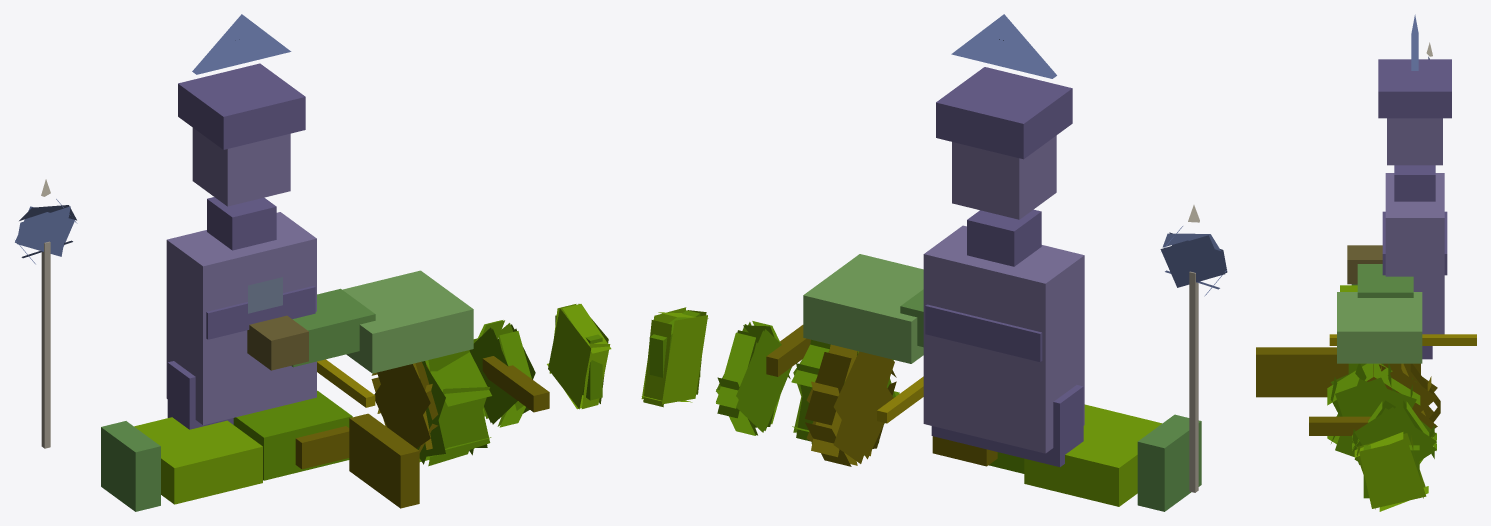
The model's file is uesugi-06.glb.
3 views of the same model, side by side, from view 1: azimuth 30°, elevation 25°; view 2: azimuth 150°, elevation 25°; view 3: azimuth 270°, elevation 25° (orthographic). The views are drawn at different scales.
Visible parts, largest first — view 1: samurai; view 2: samurai; view 3: samurai.
Boxes of the visible parts, x1,y1,x2,y2 form: samurai: (15,14,611,511); samurai: (641,14,1227,511); samurai: (1256,14,1476,511).
Bounding box in the file's own units: 1.74 × 1.41 × 0.75.
